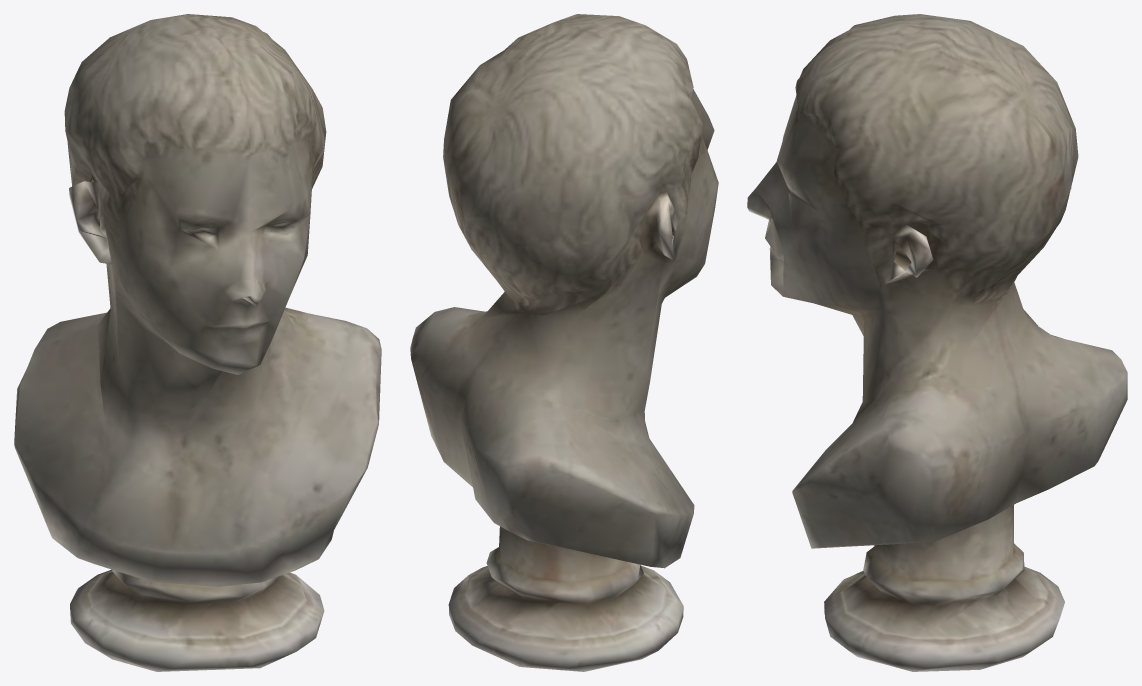
File: bust.glb
The picture shows the model from 3 angles, left to right: view 1: azimuth 30°, elevation 25°; view 2: azimuth 150°, elevation 25°; view 3: azimuth 270°, elevation 25°; orthographic projection. The views are drawn at different scales.
Visible parts, largest first — view 1: marble_bust_01; view 2: marble_bust_01; view 3: marble_bust_01.
Boxes of the visible parts, x1,y1,x2,y2 form: marble_bust_01: (14,14,381,671); marble_bust_01: (410,14,718,671); marble_bust_01: (747,14,1127,671).
Bounding box in the file's own units: 0.2718 × 0.5147 × 0.2976.
Materials: 1 (1 with a texture image).
